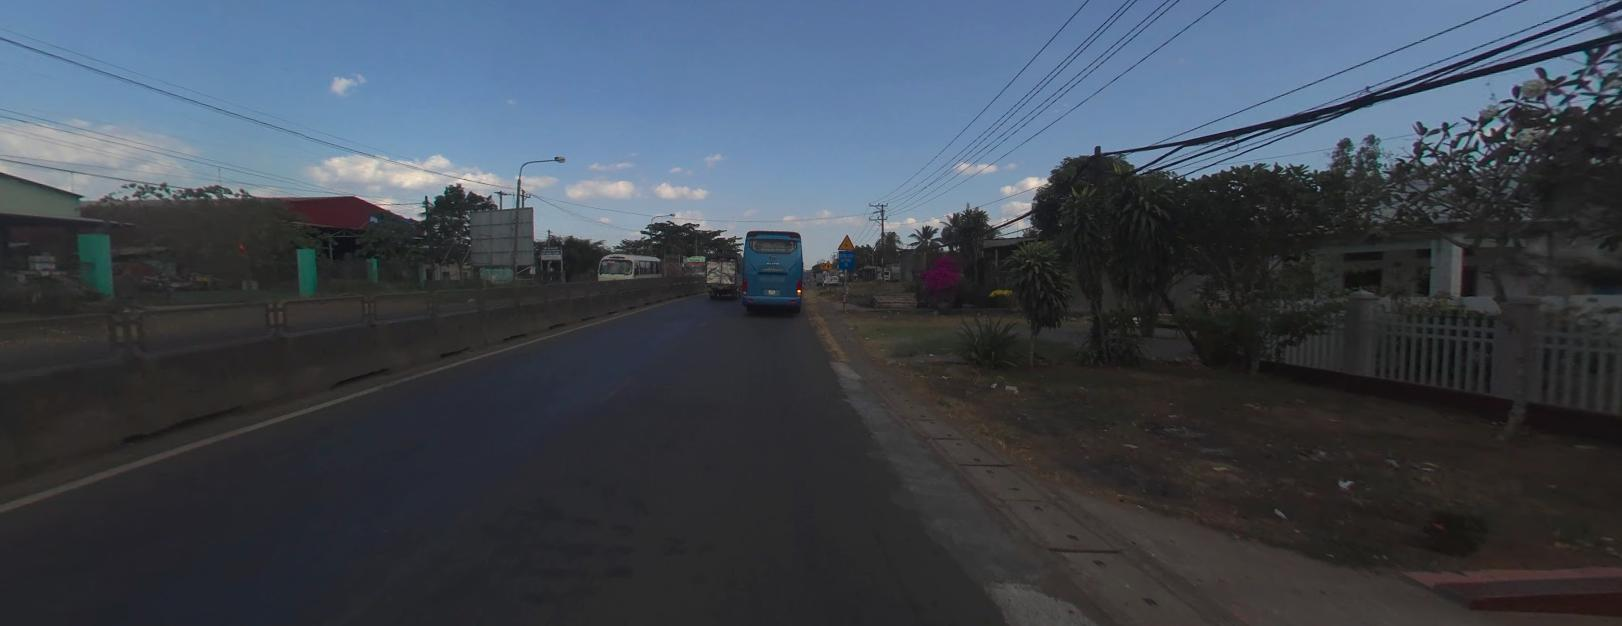Nguy hiem: (838, 233, 854, 248), (824, 259, 832, 267), (819, 260, 825, 267)
